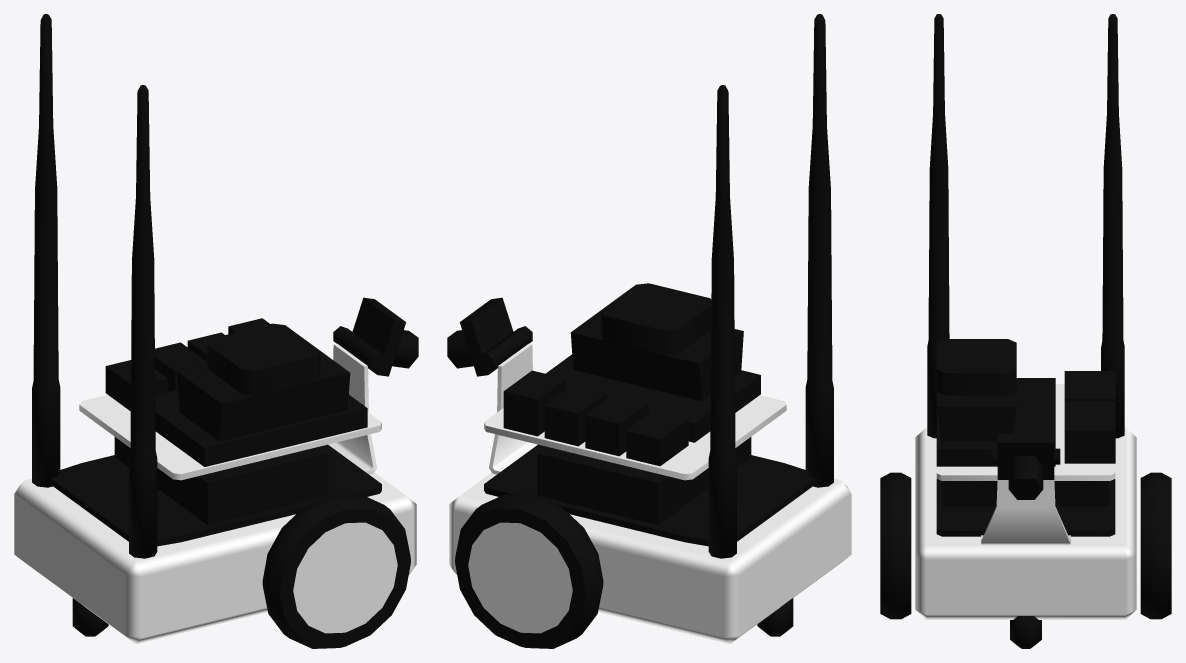
File: robot-final.gltf
3 renders of one model, left to right at view 1: azimuth 30°, elevation 25°; view 2: azimuth 150°, elevation 25°; view 3: azimuth 270°, elevation 25°, orthographic. The views are drawn at different scales.
Parts seen in each view (by area): view 1: Cube, Cylinder, Cylinder.001, Cylinder.006, Cube.006, Cube.001, Cube.002, Cube.007, Cube.009, Cube.005, Cube.008, Cube.004 (+4 smaller); view 2: Cube, Cylinder, Cube.008, Cylinder.001, Cylinder.006, Cube.006, Cube.001, Cube.002, Cube.007, Cube.005, Cube.009, Cube.004 (+4 smaller); view 3: Cube, Cylinder, Cylinder.001, Cube.008, Cube.007, Cube.009, Cube.004, Cube.006, Cube.002, Cube.001, Cube.005, Cube.003 (+2 smaller).
Part boxes in pixels (bbox=[...]): Cube: bbox=[14, 472, 416, 643]; Cylinder: bbox=[32, 14, 157, 558]; Cylinder.001: bbox=[262, 494, 410, 648]; Cylinder.006: bbox=[293, 522, 397, 633]; Cube.006: bbox=[50, 444, 381, 546]; Cube.001: bbox=[114, 437, 328, 524]; Cube.002: bbox=[177, 351, 350, 441]; Cube.007: bbox=[207, 323, 320, 395]; Cube.009: bbox=[155, 389, 367, 466]; Cube.005: bbox=[79, 395, 381, 480]; Cube.008: bbox=[105, 318, 269, 410]; Cube.004: bbox=[328, 343, 376, 474]; Cube: bbox=[449, 472, 851, 643]; Cylinder: bbox=[708, 14, 833, 558]; Cube.008: bbox=[503, 370, 688, 466]; Cylinder.001: bbox=[455, 494, 603, 648]; Cylinder.006: bbox=[468, 522, 572, 633]; Cube.006: bbox=[484, 444, 815, 546]; Cube.001: bbox=[537, 437, 751, 524]; Cube.002: bbox=[570, 311, 743, 401]; Cube.007: bbox=[600, 283, 711, 355]; Cube.005: bbox=[484, 395, 786, 480]; Cube.009: bbox=[545, 354, 760, 442]; Cube.004: bbox=[489, 343, 537, 474]; Cube: bbox=[915, 427, 1136, 619]; Cylinder: bbox=[927, 14, 1124, 438]; Cylinder.001: bbox=[880, 472, 1171, 619]; Cube.008: bbox=[1064, 371, 1115, 463]; Cube.007: bbox=[936, 339, 1016, 395]; Cube.009: bbox=[936, 378, 1055, 466]; Cube.004: bbox=[981, 480, 1070, 544]; Cube.006: bbox=[936, 479, 1115, 536]; Cube.002: bbox=[936, 391, 1016, 441]; Cube.001: bbox=[942, 481, 1109, 506]; Cube.005: bbox=[936, 384, 1115, 480]; Cube.003: bbox=[997, 433, 1054, 479].
Bounding box in the file's own units: 0.1607 × 0.2603 × 0.1313.
1 material, 1 textured.
